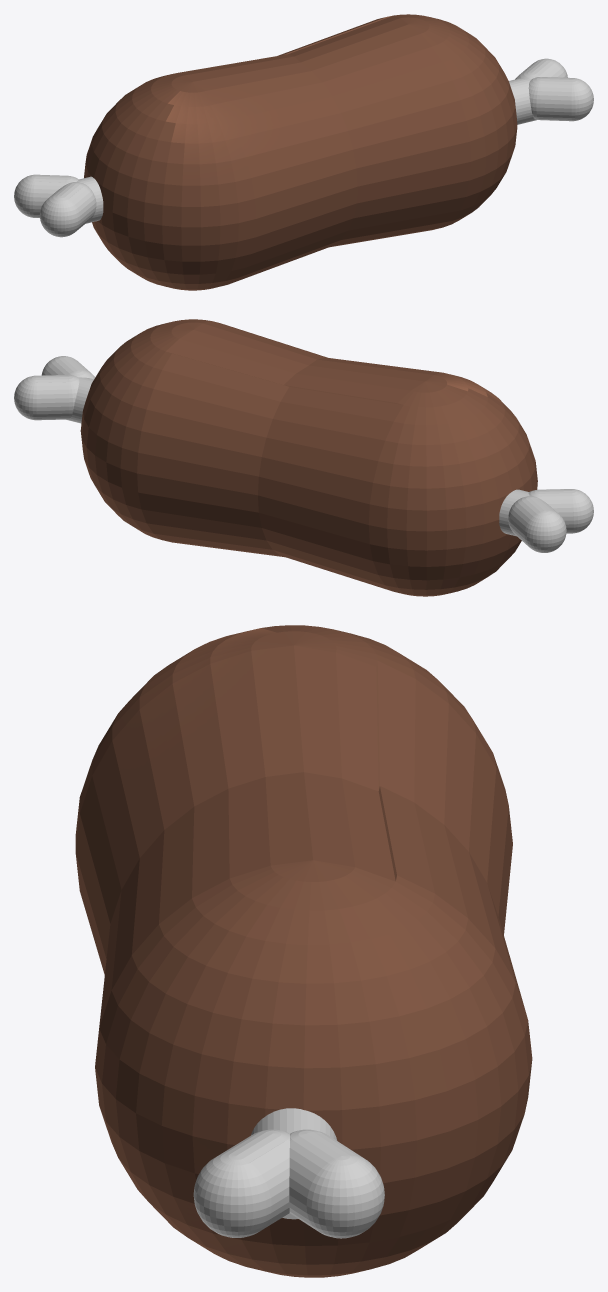
Rendered from niku.obj.
3 views of the same model, one above another, from view 1: azimuth 30°, elevation 25°; view 2: azimuth 150°, elevation 25°; view 3: azimuth 270°, elevation 25° (orthographic). The views are drawn at different scales.
Parts seen in each view (by area): view 1: 球, 球.001, 球.002; view 2: 球, 球.001, 球.002; view 3: 球, 球.002.
Part boxes in pixels (box(x1,y1,x2,y2)): 球: box(84, 14, 517, 290); 球.001: box(14, 174, 103, 237); 球.002: box(509, 58, 593, 124); 球: box(80, 319, 537, 596); 球.001: box(499, 489, 593, 552); 球.002: box(14, 356, 95, 423); 球: box(75, 625, 532, 1277); 球.002: box(193, 1108, 384, 1238).
Size of the model in its own units: 3.47 by 1.22 by 1.27.
